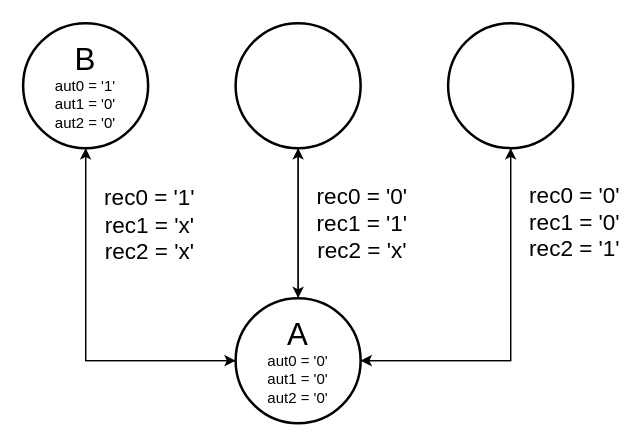
The diagram is 640 pixels wide and 445 high, and some of its shapes have lost their labels. The shapes that lost their labels are listed below. From the top down, each one's centre as x and y in pixels, then its label:
(x=297, y=85): C aut0 = '0' aut1 = '1' aut2 = '0'
(x=510, y=85): D aut0 = '0' aut1 = '0' aut2 = '1'
